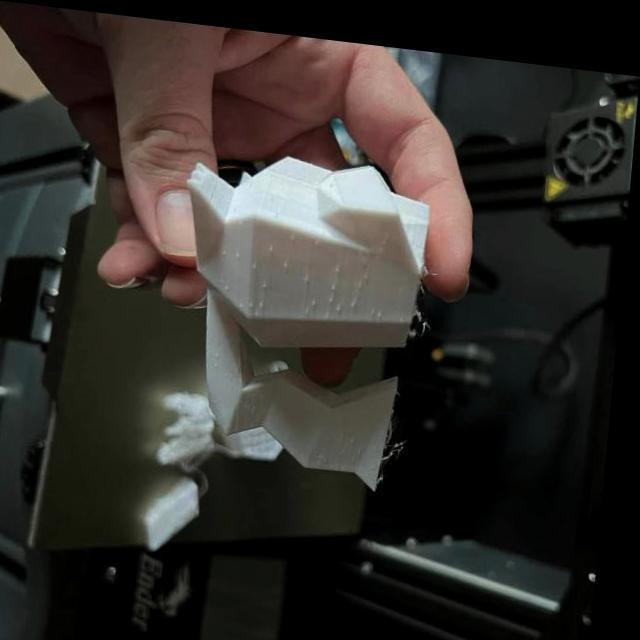zits: (378, 297, 392, 312), (350, 286, 364, 300), (270, 233, 281, 246), (284, 250, 295, 262), (253, 253, 263, 266), (333, 271, 344, 282), (337, 253, 348, 264), (313, 286, 324, 297), (365, 259, 375, 270), (262, 290, 272, 301), (238, 242, 248, 252), (338, 294, 348, 304), (304, 266, 315, 275), (227, 275, 236, 286), (332, 286, 342, 295), (252, 291, 260, 302), (267, 274, 274, 282)
